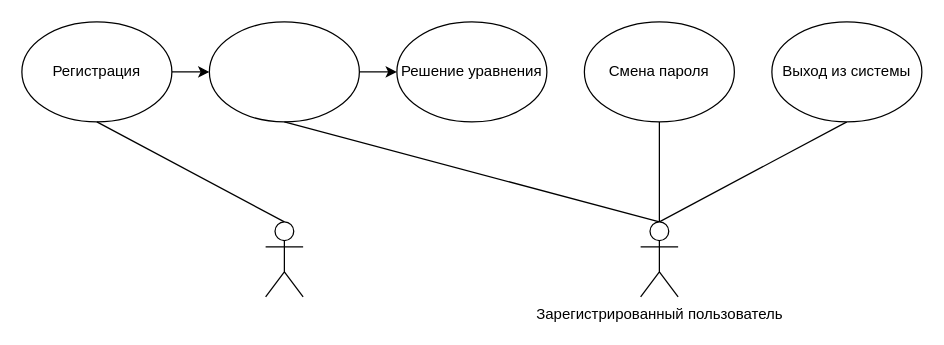
Some shapes in this 944 by 345 pixel diagram are drawn without their labels. Each missing label, with the centre of its shape:
"Авторизация" goes at point (283, 71).
"Незарегистрированный пользователь" goes at point (283, 259).
